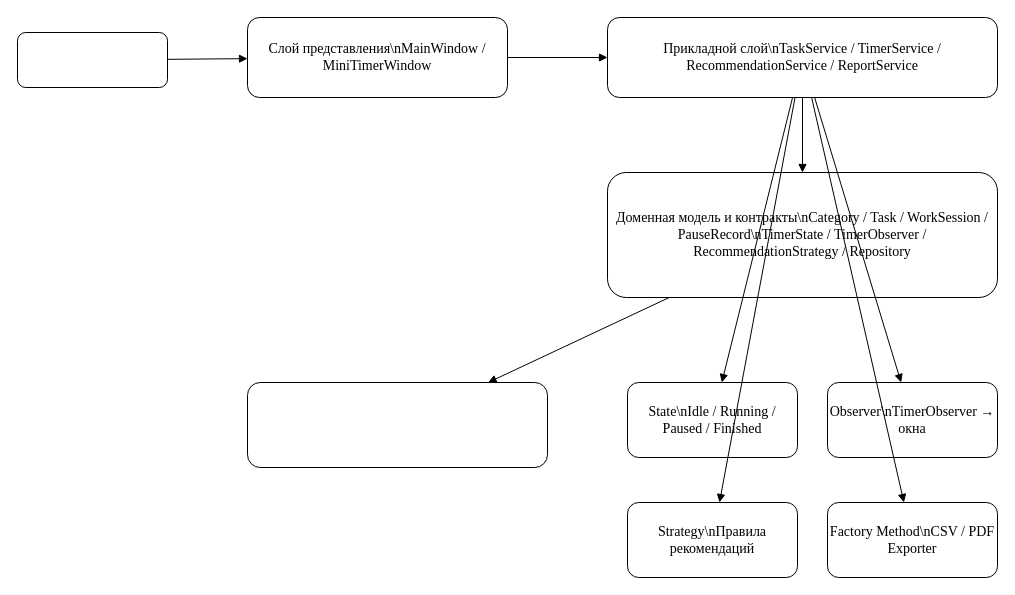
Some shapes in this 1015 by 595 pixel diagram are drawn without their labels. Each missing label, with the box of its shape:
Инфраструктура\nSQLite JDBC / AWT Adapter / OpenPDF: (246, 382, 548, 468)
Пользователь: (16, 32, 168, 88)
